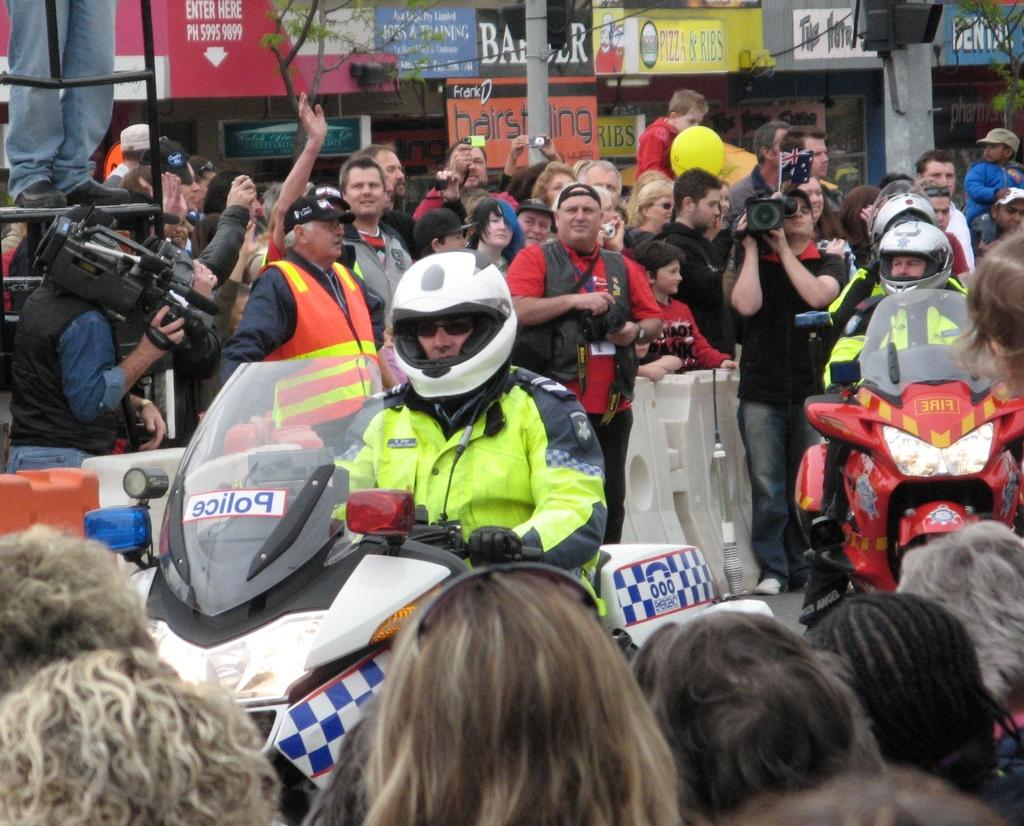helmet: (392, 251, 518, 404), (879, 221, 954, 308), (871, 193, 939, 260)
nohelmet: (377, 569, 634, 826), (0, 651, 278, 826), (631, 611, 838, 826), (802, 590, 984, 783), (0, 524, 159, 715), (896, 520, 1024, 730), (282, 194, 357, 264), (339, 155, 389, 226), (554, 182, 604, 250), (413, 206, 477, 259), (673, 167, 722, 235), (633, 239, 685, 297), (358, 143, 408, 201), (752, 119, 800, 178), (781, 124, 830, 180), (445, 136, 490, 194), (471, 195, 517, 251), (775, 187, 816, 247), (915, 149, 958, 205), (512, 197, 554, 251), (639, 179, 681, 232), (668, 88, 709, 139), (989, 186, 1024, 238), (976, 127, 1020, 166)
